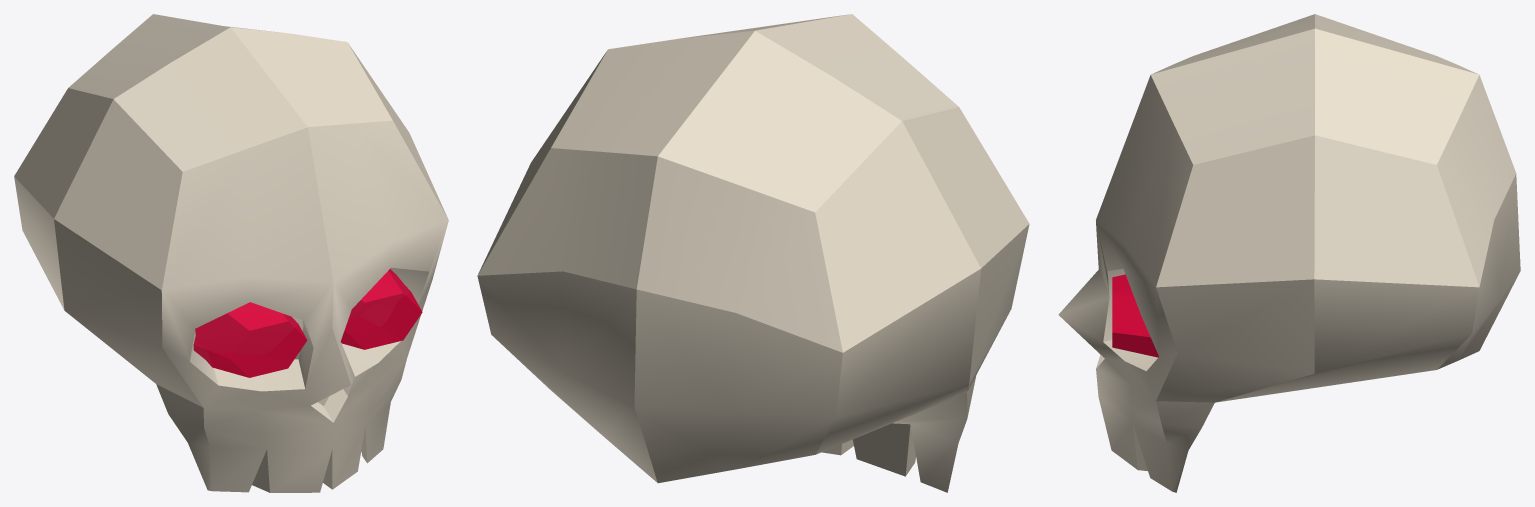
File: sm_skull_1.fbx
3 views of the same model, side by side, from view 1: azimuth 30°, elevation 25°; view 2: azimuth 150°, elevation 25°; view 3: azimuth 270°, elevation 25° (orthographic). The views are drawn at different scales.
Parts seen in each view (by area): view 1: pCube1, pCylinder1, jewels1:pCylinder1; view 2: pCube1; view 3: pCube1, jewels1:pCylinder1.
Part boxes in pixels (x1=…): pCube1: x1=14, y1=14, x2=448, y2=492; pCylinder1: x1=193, y1=302, x2=307, y2=377; jewels1:pCylinder1: x1=340, y1=269, x2=422, y2=349; pCube1: x1=477, y1=14, x2=1029, y2=492; pCube1: x1=1058, y1=14, x2=1520, y2=492; jewels1:pCylinder1: x1=1112, y1=274, x2=1158, y2=357.
Bounding box in the file's own units: 461 × 486 × 487.
